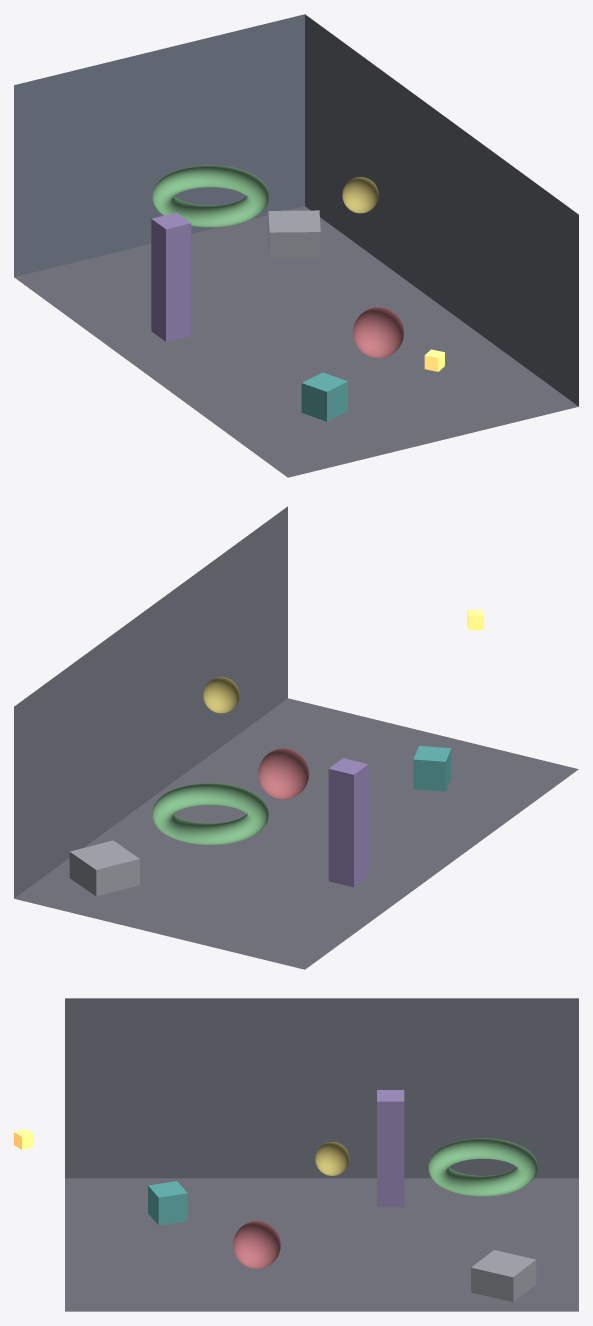
3 views of the same model, one above another, from view 1: azimuth 30°, elevation 25°; view 2: azimuth 150°, elevation 25°; view 3: azimuth 270°, elevation 25° (orthographic). The views are drawn at different scales.
Parts seen in each view (by area): view 1: Room, Objects; view 2: Room, Objects; view 3: Room, Objects.
Part boxes in pixels (bbox=[...]): Room: bbox=[14, 14, 578, 477]; Objects: bbox=[151, 165, 403, 421]; Room: bbox=[14, 506, 578, 969]; Objects: bbox=[69, 677, 451, 896]; Room: bbox=[65, 998, 578, 1311]; Objects: bbox=[148, 1090, 537, 1301].
Bounding box in the file's own units: 92 × 58 × 165.
